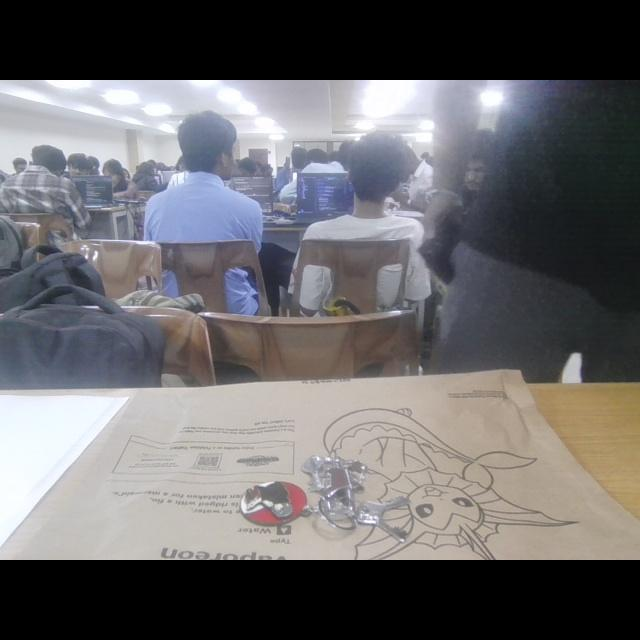keys: (227, 428, 428, 560)
